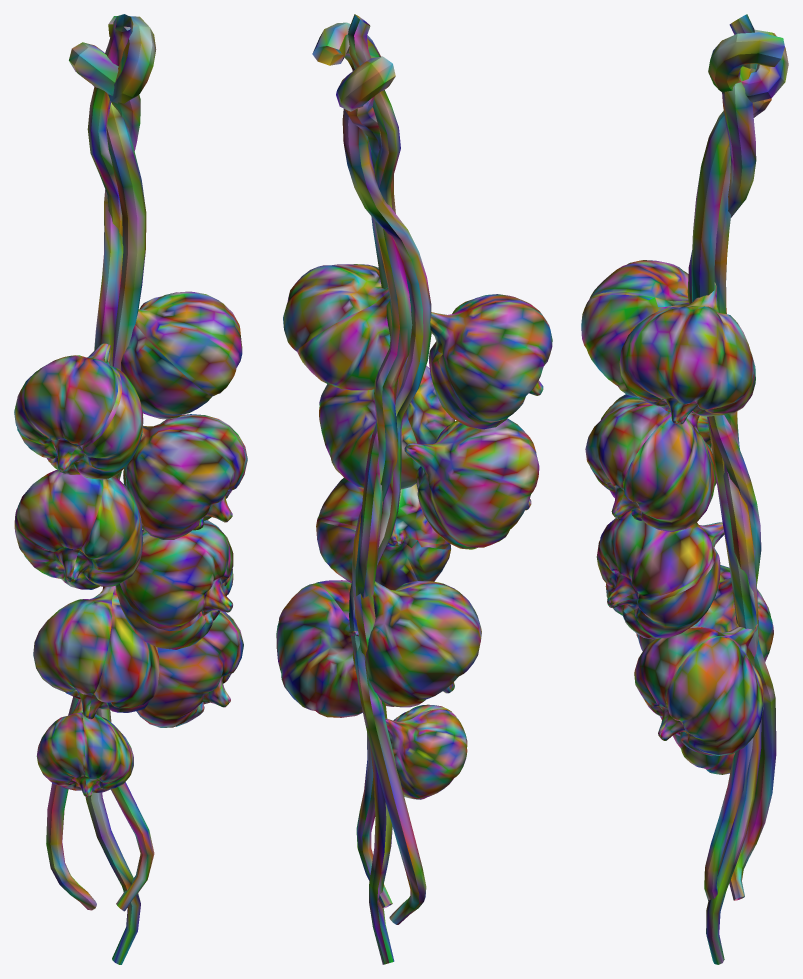
The model's file is Garlic.fbx.
3 views of the same model, side by side, from view 1: azimuth 30°, elevation 25°; view 2: azimuth 150°, elevation 25°; view 3: azimuth 270°, elevation 25° (orthographic). The views are drawn at different scales.
Parts seen in each view (by area): view 1: Garlic; view 2: Garlic; view 3: Garlic.
Boxes of the visible parts, left/top/right/bottom form: Garlic: left=14, top=14, right=247, bottom=964; Garlic: left=276, top=14, right=552, bottom=964; Garlic: left=581, top=14, right=788, bottom=964.
Bounding box in the file's own units: 43.49 × 165 × 32.5.
